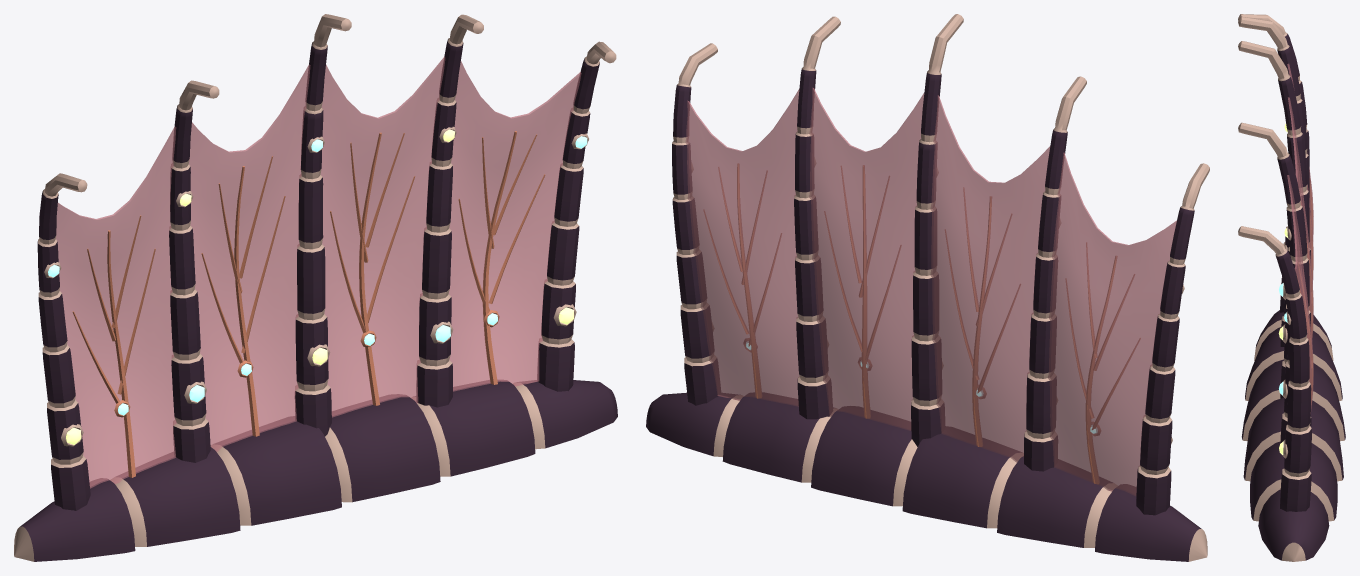
File: deco_membrane_screen.fbx
3 renders of one model, left to right at view 1: azimuth 30°, elevation 25°; view 2: azimuth 150°, elevation 25°; view 3: azimuth 270°, elevation 25°, orthographic. The views are drawn at different scales.
Parts seen in each view (by area): view 1: MembraneScreen_Membrane, MembraneScreen_Ribs, MembraneScreen_Veins, MembraneScreen_Nodules; view 2: MembraneScreen_Membrane, MembraneScreen_Ribs, MembraneScreen_Veins; view 3: MembraneScreen_Ribs, MembraneScreen_Membrane, MembraneScreen_Veins, MembraneScreen_Nodules.
Boxes of the visible parts, bbox=[...] form: MembraneScreen_Membrane: bbox=[55, 56, 581, 488]; MembraneScreen_Ribs: bbox=[14, 14, 617, 561]; MembraneScreen_Veins: bbox=[72, 131, 545, 477]; MembraneScreen_Nodules: bbox=[44, 126, 588, 446]; MembraneScreen_Membrane: bbox=[685, 88, 1176, 495]; MembraneScreen_Ribs: bbox=[646, 14, 1209, 561]; MembraneScreen_Veins: bbox=[704, 164, 1140, 484]; MembraneScreen_Ribs: bbox=[1238, 14, 1345, 561]; MembraneScreen_Membrane: bbox=[1287, 64, 1313, 413]; MembraneScreen_Veins: bbox=[1297, 179, 1313, 404]; MembraneScreen_Nodules: bbox=[1278, 124, 1291, 458].
Size of the model in its own units: 350 by 272 by 66.4.
